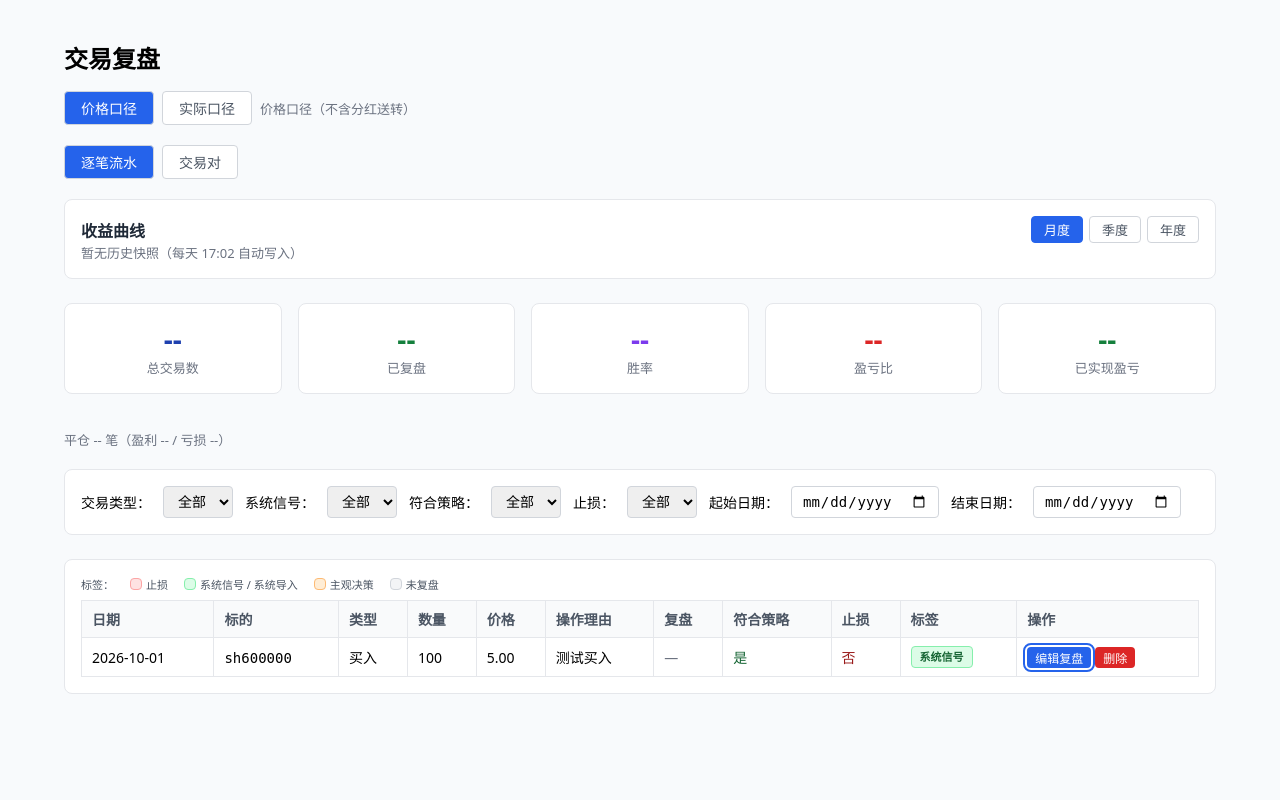
Test case: 弹窗焦点管理（T76 ⑤ · 焦点锁定 / 焦点回归） › Review 编辑弹窗：role=dialog + aria-modal + ESC 关闭
Step 1. Click the button "编辑复盘" → (1059, 657), box [1027, 647, 1091, 668]
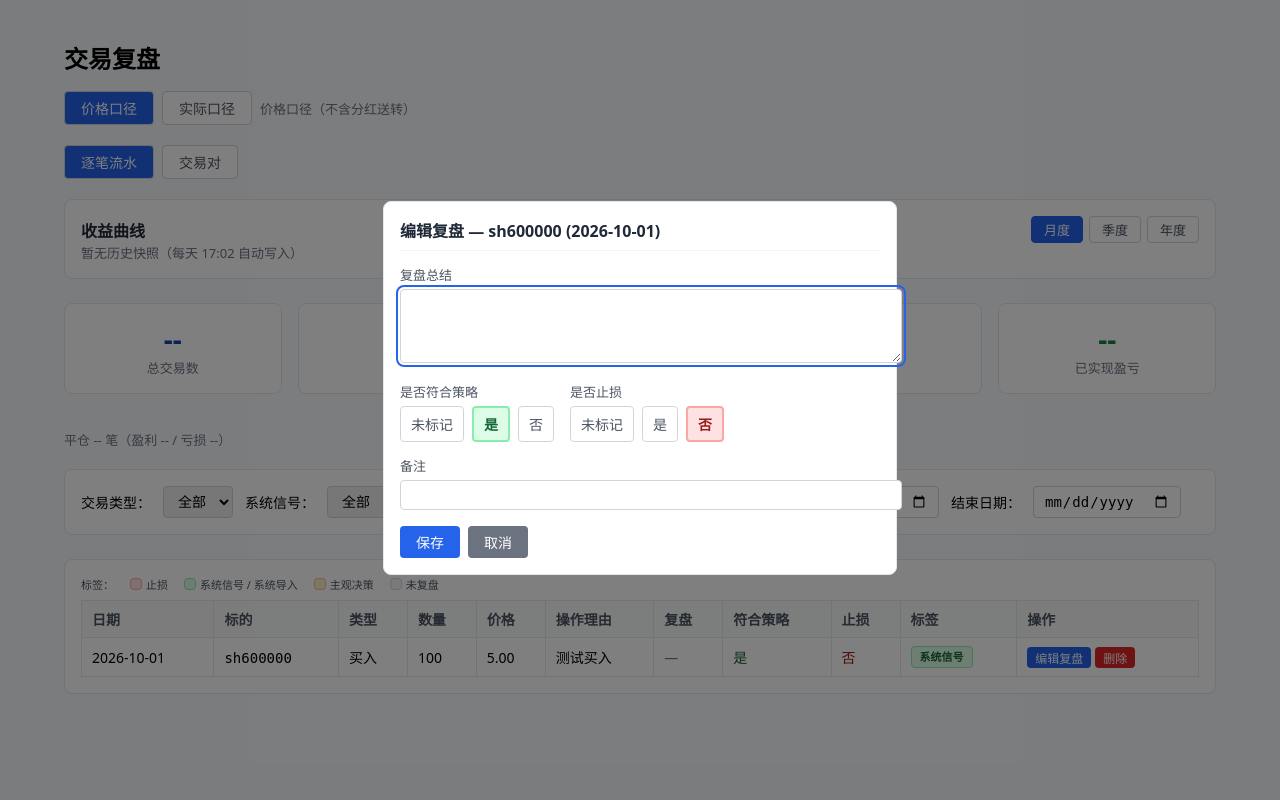
Step 2. Press Escape
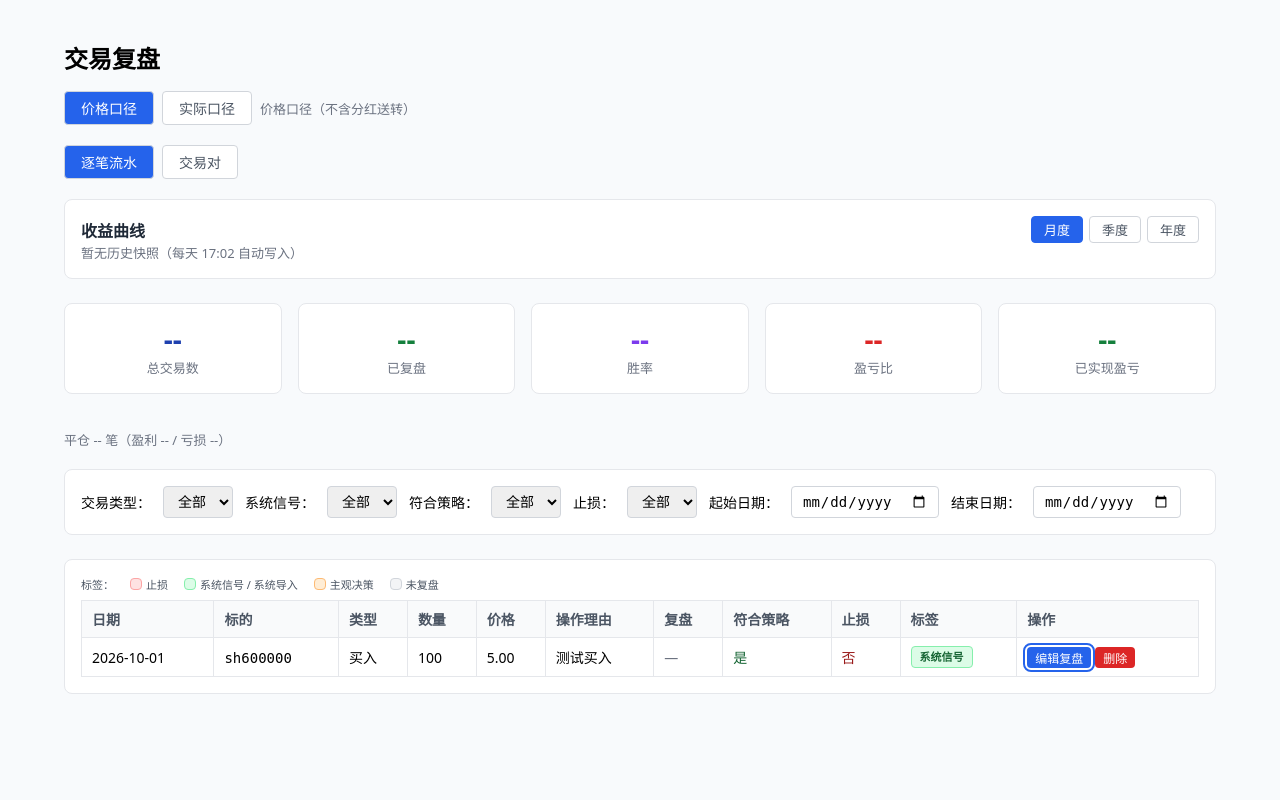
Now the dialog is gone
